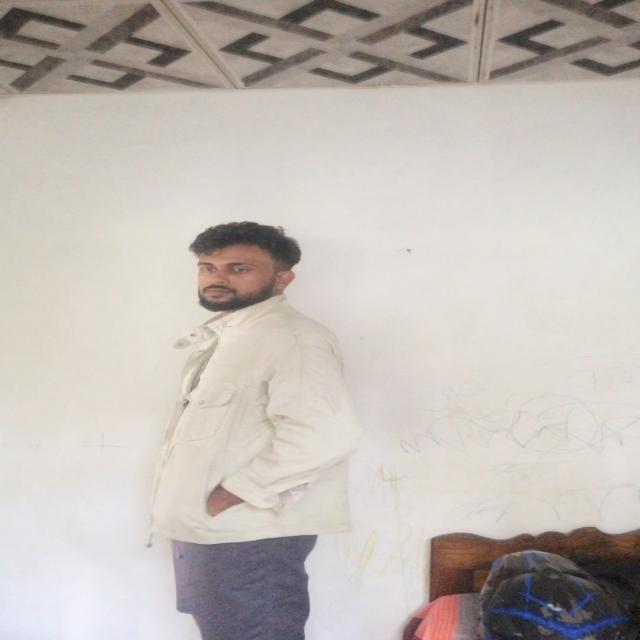Jacket_Wearer: (150, 310, 352, 550)
Person: (144, 212, 364, 635)
